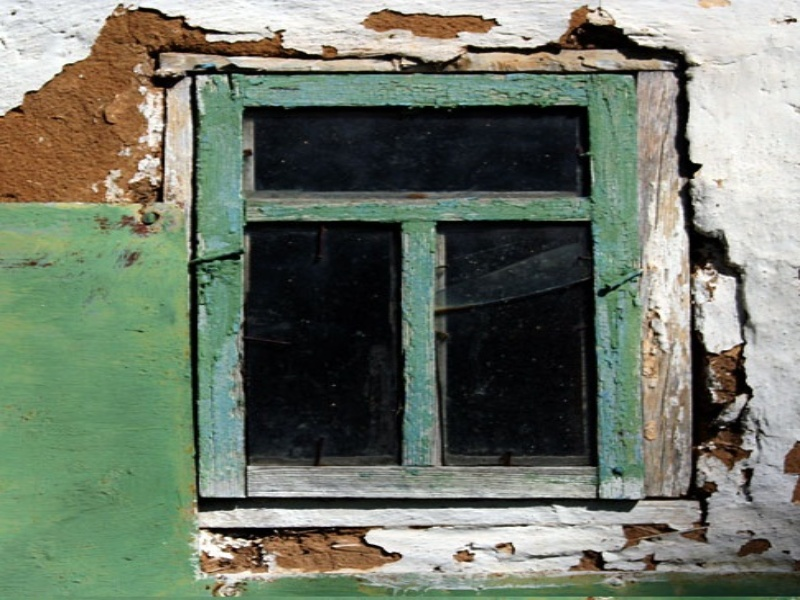window: (192, 65, 640, 496)
